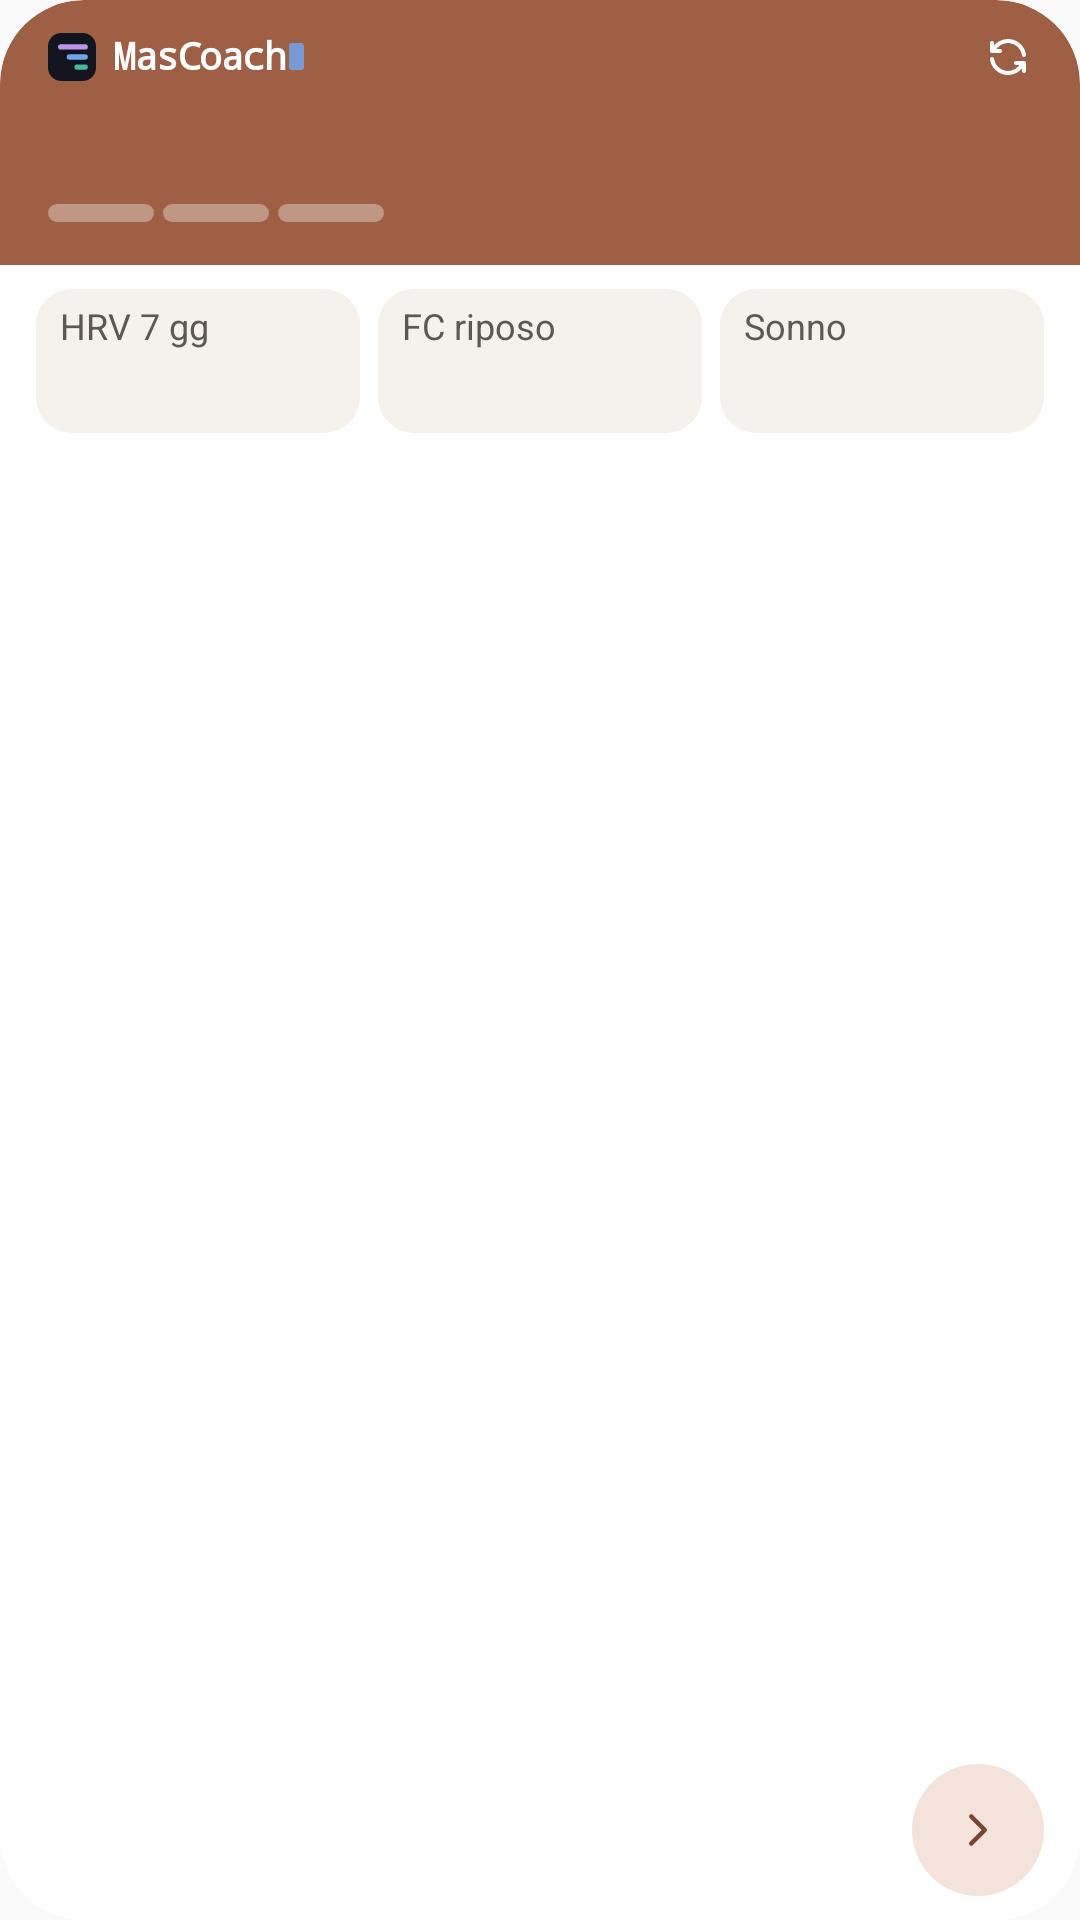

Icons on this 1080w x 1920h Android screen, each with its box as (x1, y1, x2, y2):
Aggiorna: (990, 39, 1026, 75)
Apri: (912, 1764, 1044, 1896)
